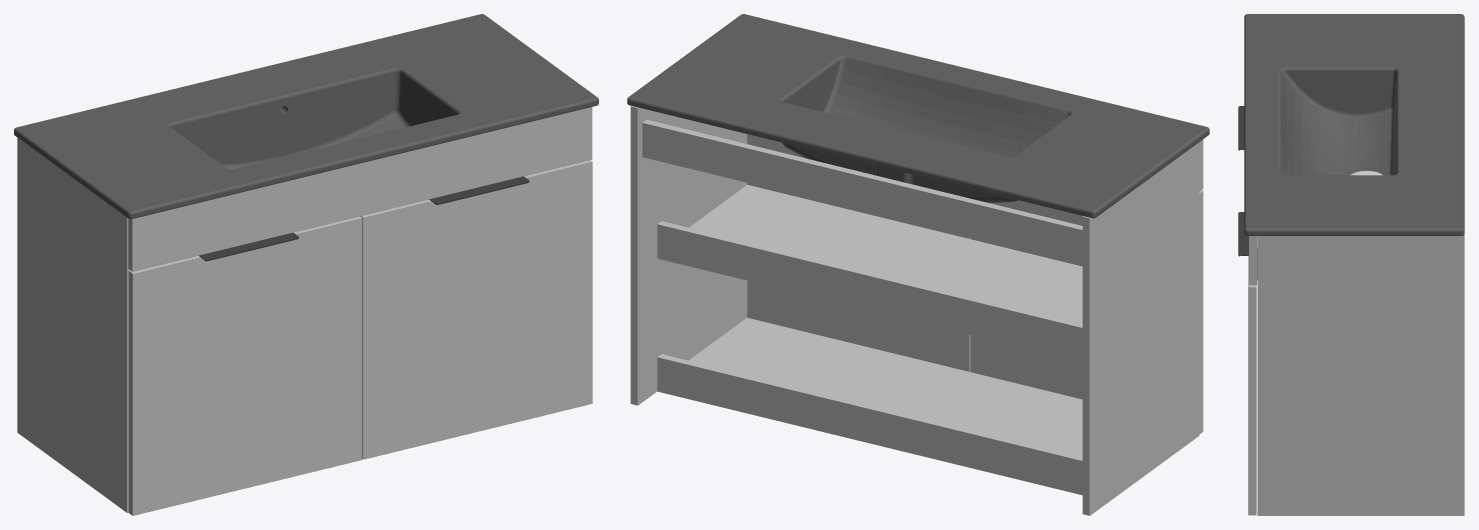
The model's file is AEC_47539.glb.
3 views of the same model, side by side, from view 1: azimuth 30°, elevation 25°; view 2: azimuth 150°, elevation 25°; view 3: azimuth 270°, elevation 25° (orthographic). The views are drawn at different scales.
Parts seen in each view (by area): view 1: 0; view 2: 0; view 3: 0.
Boxes of the visible parts, x1,y1,x2,y2 form: 0: [14, 14, 598, 515]; 0: [627, 14, 1209, 515]; 0: [1238, 14, 1464, 515].
Bounding box in the file's own units: 1 × 0.622 × 0.4413.
Materials: 1 (1 with a texture image).
